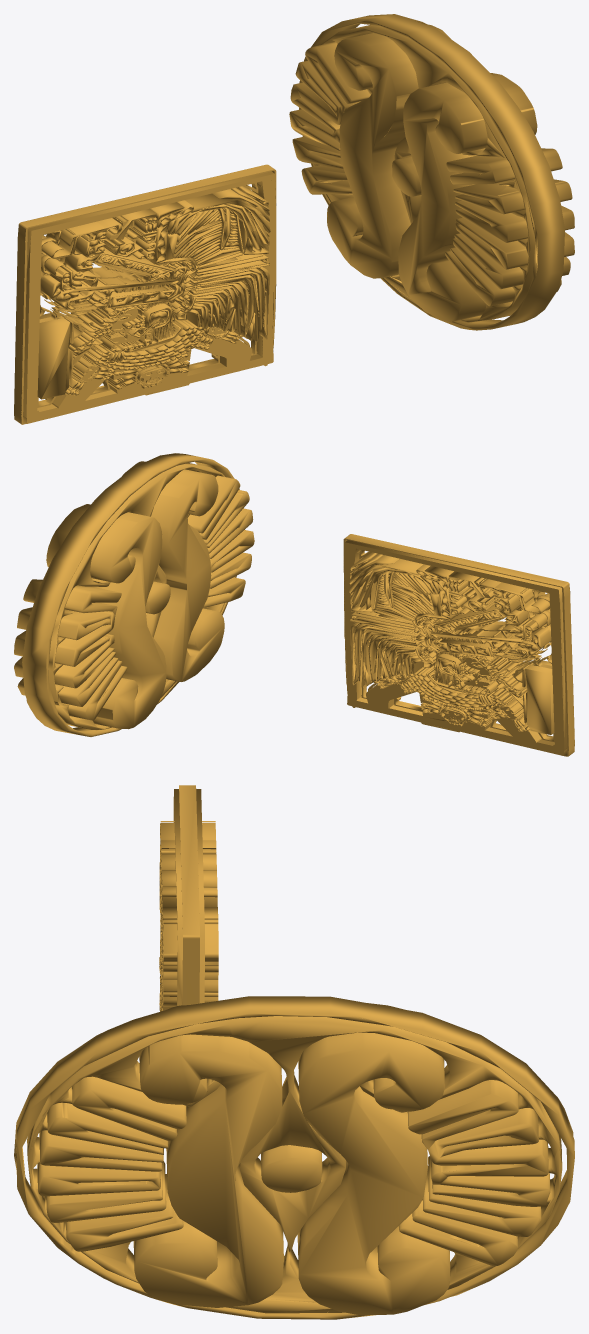
The model's file is templegoldpeice.1.5.glb.
3 views of the same model, one above another, from view 1: azimuth 30°, elevation 25°; view 2: azimuth 150°, elevation 25°; view 3: azimuth 270°, elevation 25° (orthographic). The views are drawn at different scales.
Parts seen in each view (by area): view 1: Selection.017; view 2: Selection.017; view 3: Selection.017.
Boxes of the visible parts, box(x1,y1,x2,y2) form: Selection.017: box(14, 14, 574, 424); Selection.017: box(14, 453, 574, 756); Selection.017: box(14, 785, 574, 1319).
Size of the model in its own units: 1.76 by 0.8766 by 1.43.
